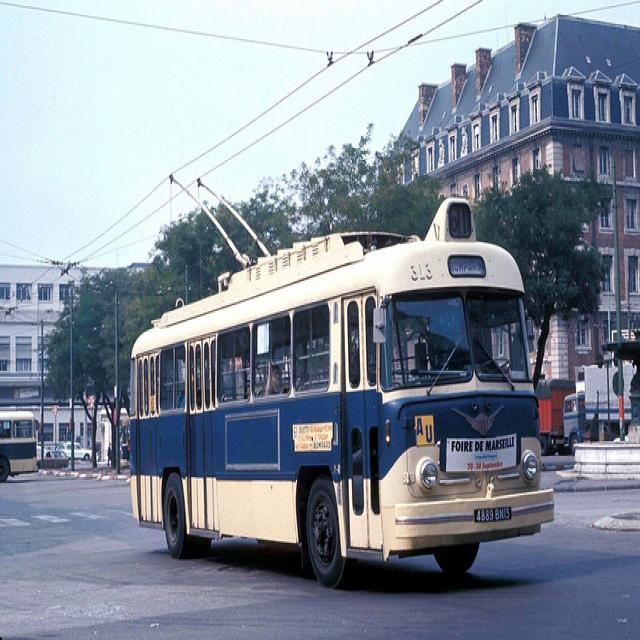bus: (130, 196, 554, 558), (0, 407, 42, 480)
car: (52, 440, 89, 458), (35, 448, 67, 466), (118, 429, 129, 465)
truck: (560, 364, 632, 452), (534, 375, 575, 453)
